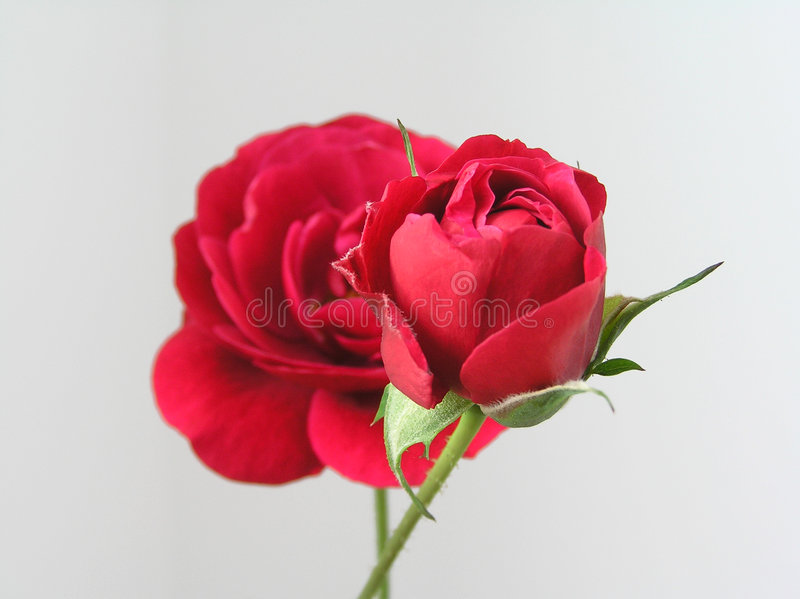RedRose: (366, 107, 622, 439)
